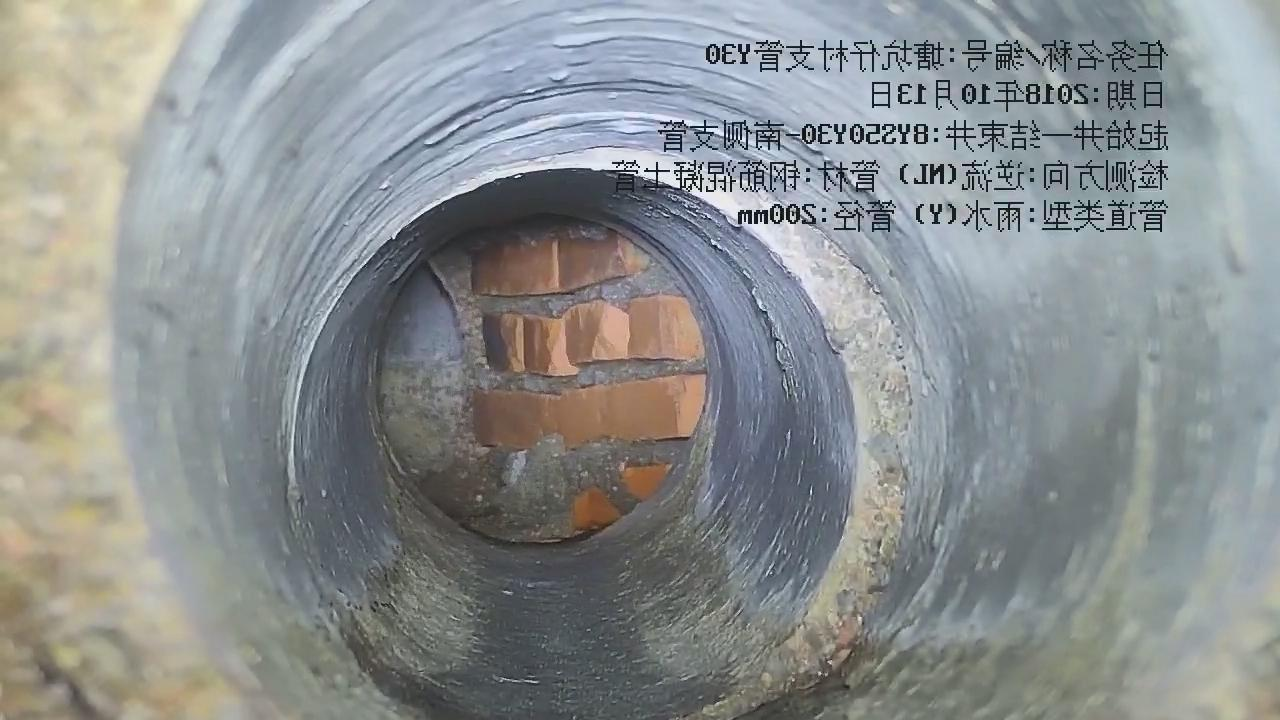CKTJ: (462, 147, 914, 719)
CQBG: (430, 218, 706, 541)
